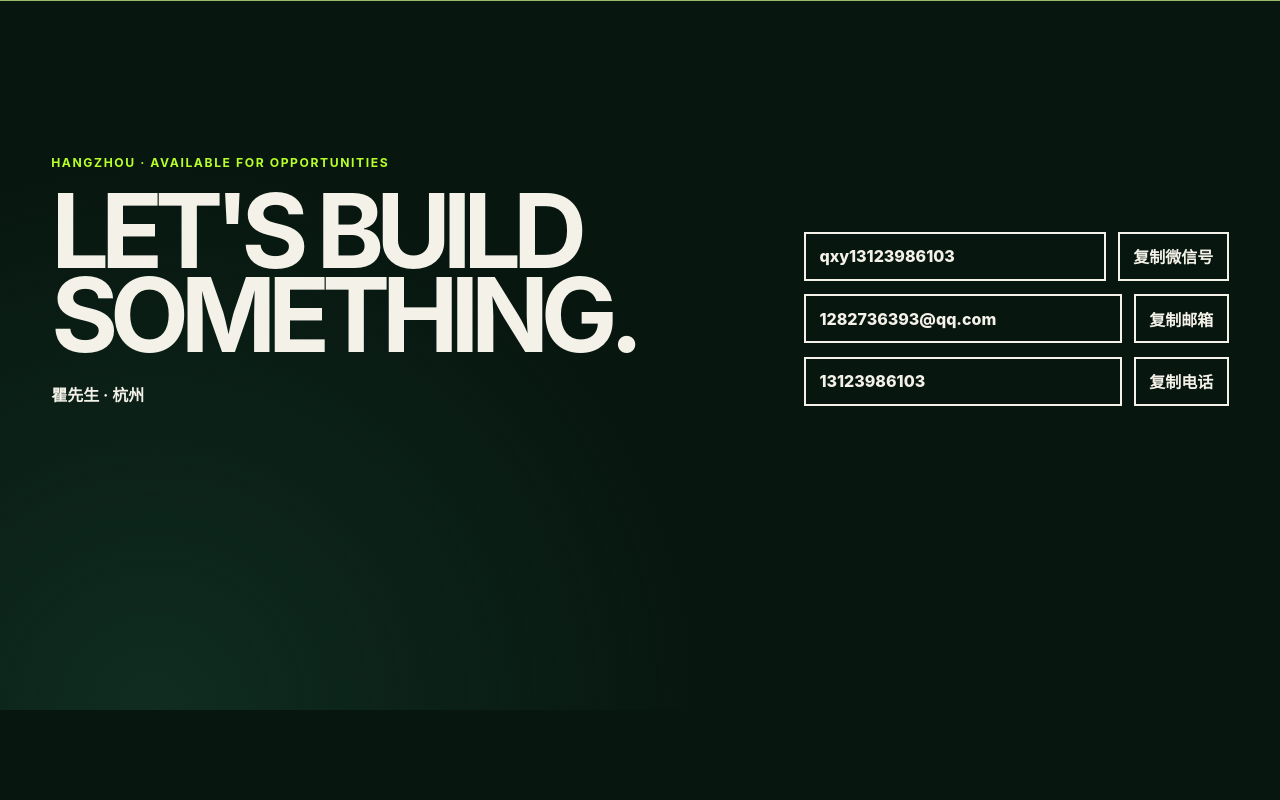
Scenario: ContactSection › copies the email and announces success
Step 1. Click the button "复制邮箱" → click(1181, 319), box [1134,294,1229,343]
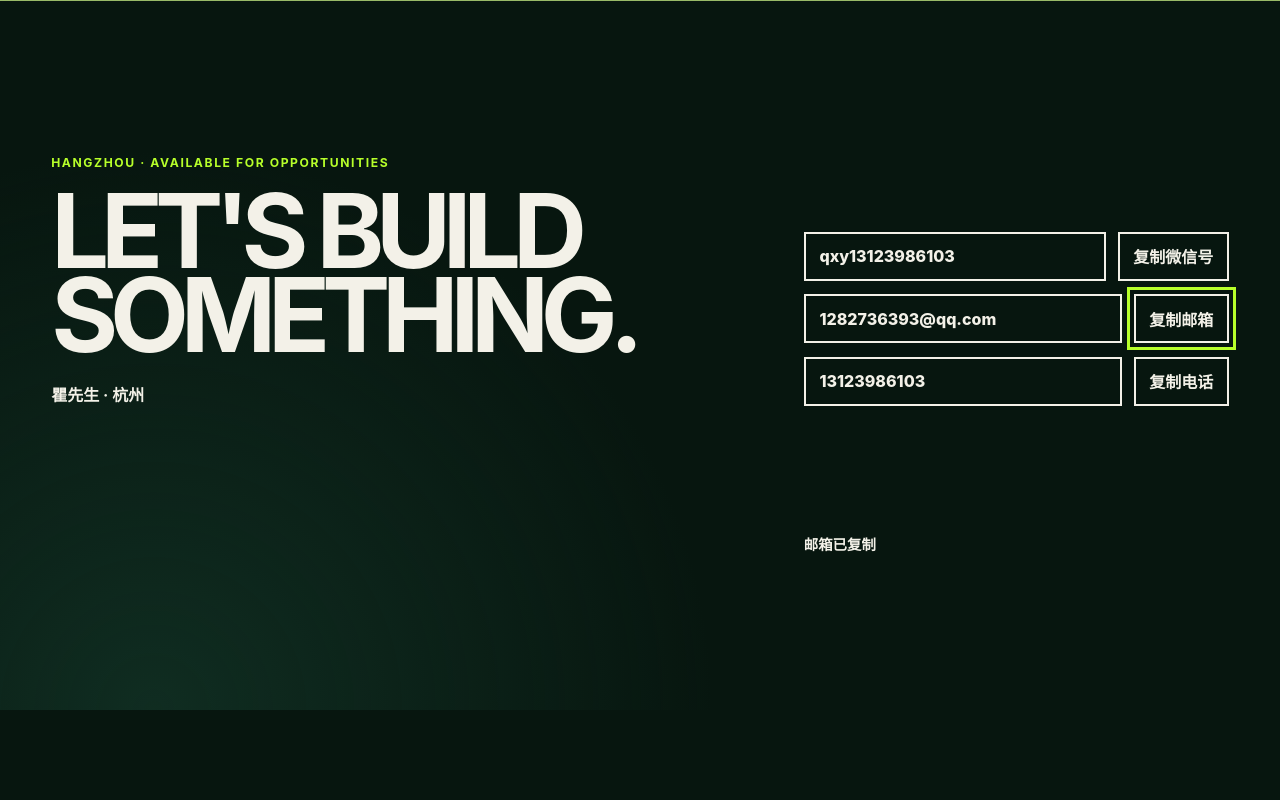
Expected: the message reads "邮箱已复制", [804,536,876,553]
